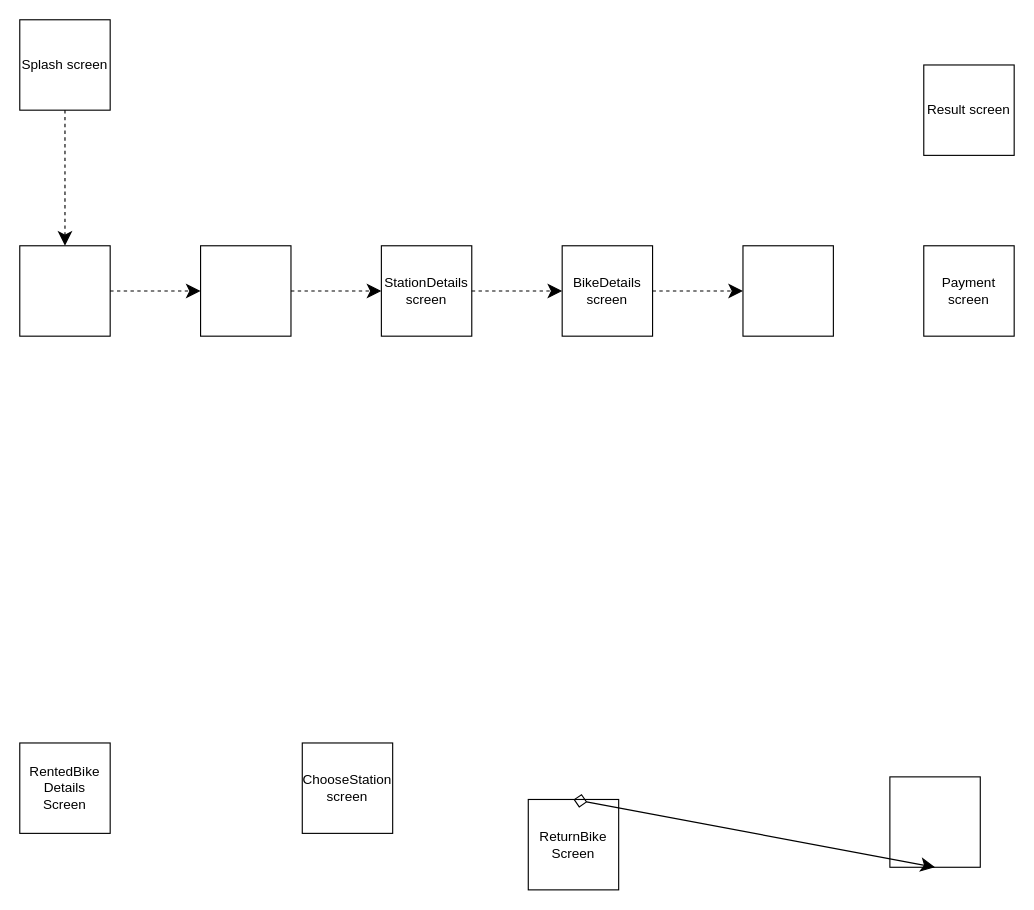
Some shapes in this 1034 by 910 pixel diagram are drawn without their labels. The shapes that lost their labels are listed below. From the top down, each one's box as (x1, y1, x2, y2) in pixels, then its label:
(19, 245, 110, 336): Home screen
(199, 245, 291, 336): ListStation screen
(742, 245, 833, 336): Description ReturnBike Screen
(889, 776, 980, 867): Error screen
